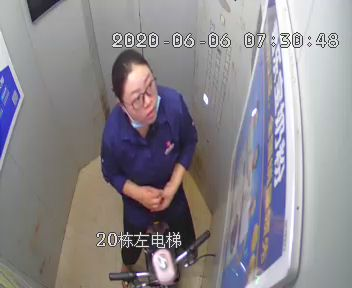Electric-bicycle: (109, 219, 210, 287)
